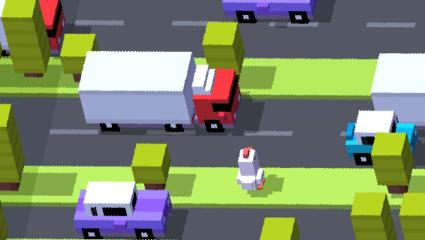hen: (237, 148, 264, 190)
obstacle: (80, 51, 191, 132), (76, 182, 173, 240), (0, 0, 51, 78), (370, 53, 423, 127), (346, 111, 416, 166), (0, 0, 65, 57), (191, 65, 240, 131), (204, 23, 243, 89), (371, 134, 413, 193), (0, 103, 26, 192), (352, 192, 400, 240), (223, 0, 320, 23), (131, 142, 173, 191), (61, 35, 97, 84), (401, 193, 424, 240), (262, 219, 300, 240)
